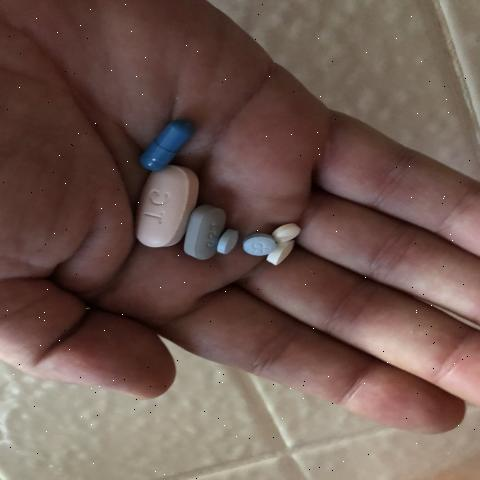Pill: (126, 163, 200, 250), (271, 234, 306, 266)
